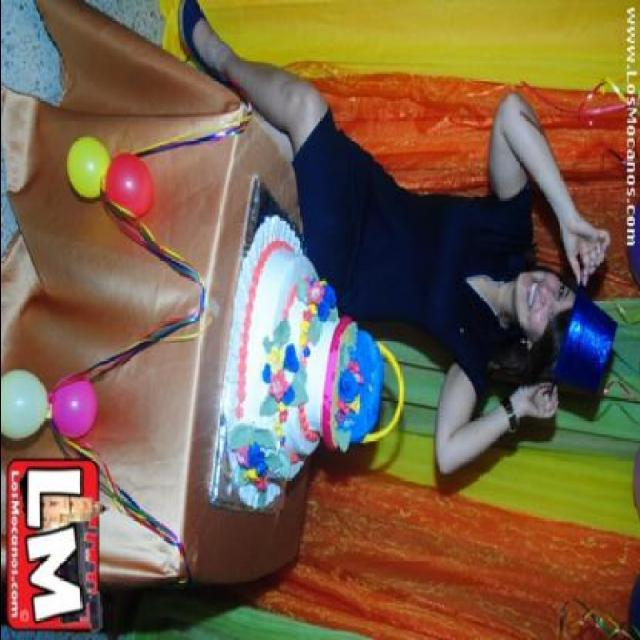Cake: (225, 212, 403, 506)
